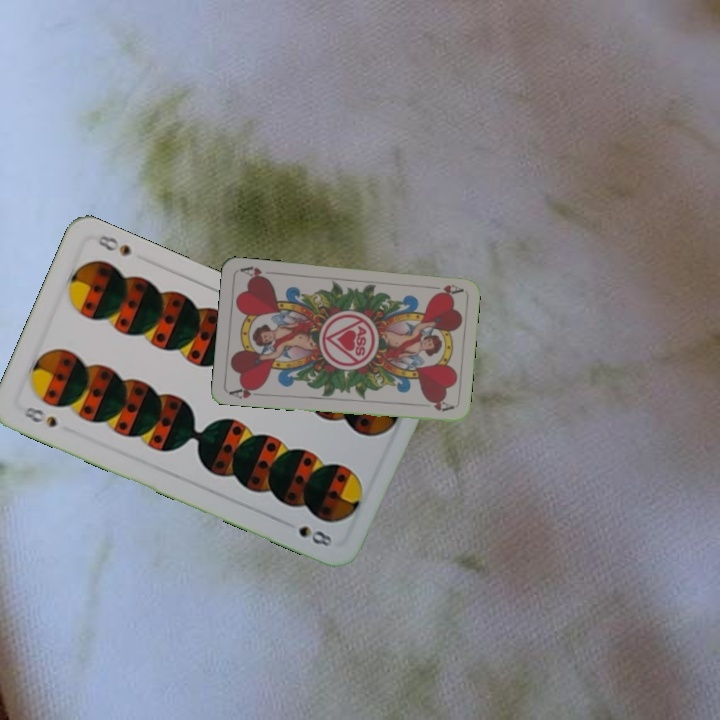HA: (225, 382, 265, 401), (424, 281, 465, 299)
S8: (18, 401, 60, 430)
